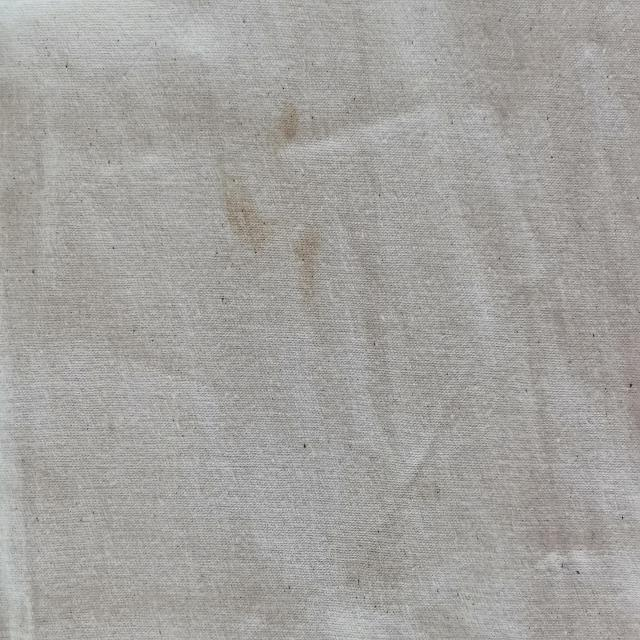taaaches: (216, 147, 275, 291), (292, 216, 322, 314), (281, 89, 303, 149)
